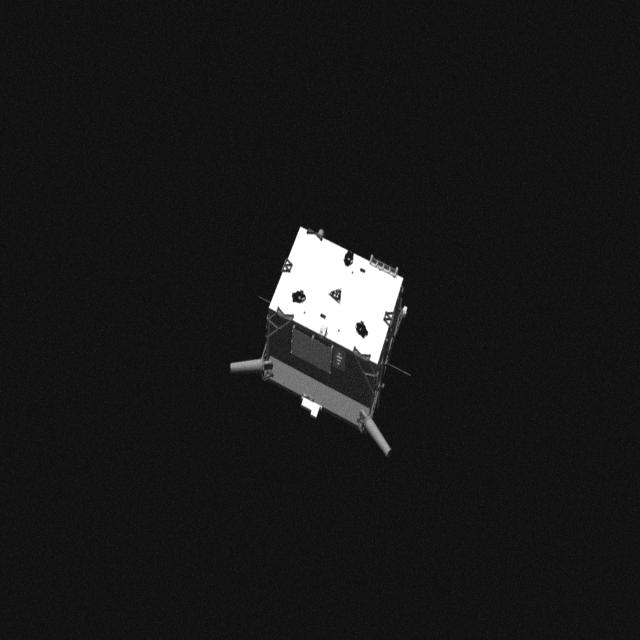satellite: (214, 220, 426, 462)
